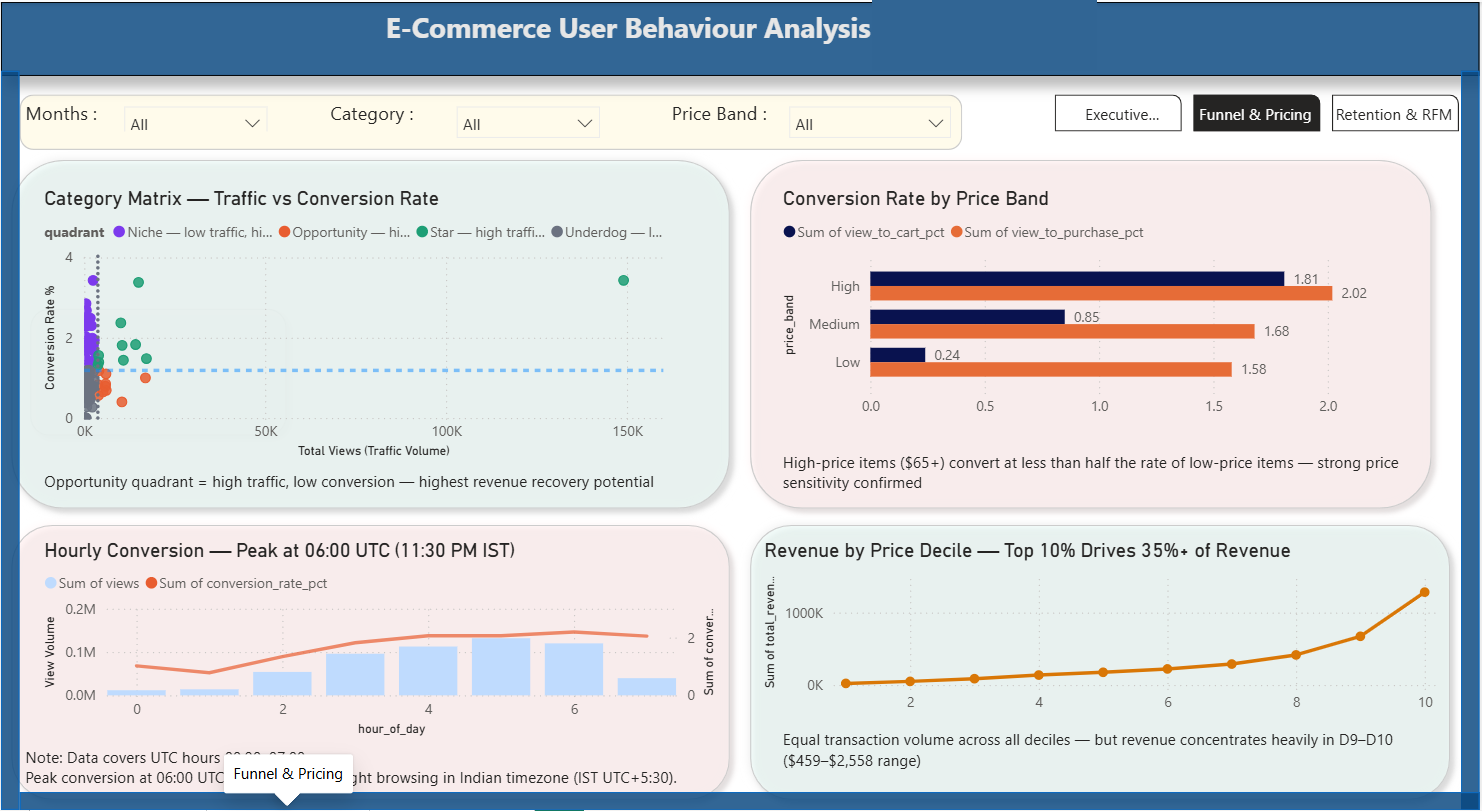

This screenshot's page, from the dashboard's own definition file:
{"tool":"powerbi","page":{"name":"Funnel & Pricing","canvas":[1280,700],"ordinal":1},"visuals":[{"type":"shape","box":[16,80,816,48],"z":0},{"type":"shape","box":[16,256,240,128],"z":1000},{"type":"shape","box":[640,128,608,320],"z":2000},{"type":"shape","box":[0,128,640,320],"z":3000},{"type":"textbox","box":[0,0,1280,64],"z":4000},{"type":"slicer","title":"Months","fields":{"Values":["events.month_label"]},"box":[96,80,144,32],"z":5000},{"type":"slicer","fields":{"Values":["events.category_code"]},"box":[384,80,144,48],"z":6000},{"type":"slicer","fields":{"Values":["events.price_band"]},"box":[672,80,160,48],"z":7000},{"type":"textbox","box":[16,80,80,32],"z":8000},{"type":"textbox","box":[280,80,112,32],"z":9000},{"type":"textbox","box":[576,80,112,32],"z":10000},{"type":"shape","box":[0,444,640,256],"z":11000},{"type":"shape","box":[640,444,624,256],"z":12000},{"type":"scatterChart","title":"Category Matrix — Traffic vs Conversion Rate","fields":{"X":["m4_category_quadrant.views"],"Y":["m4_category_quadrant.conversion_rate_pct"],"Series":["m4_category_quadrant.quadrant"]},"box":[32,160,560,240],"z":13000},{"type":"clusteredBarChart","title":"Conversion Rate by Price Band","fields":{"Category":["m3_price_bands.price_band"],"Y":["Sum(price_ bands.view_to_cart_pct)","Sum(price_ bands.view_to_purchase_pct)"]},"box":[672,160,528,208],"z":14000},{"type":"lineClusteredColumnComboChart","title":"Hourly Conversion — Peak at 06:00 UTC (11:30 PM IST)","fields":{"Category":["m2_hourly_conversion.hour_of_day"],"Y":["Sum(m2_hourly_conversion.views)"],"Y2":["Sum(m2_hourly_conversion.conversion_rate_pct)"]},"box":[32,464,592,176],"z":15000},{"type":"lineChart","title":"Revenue by Price Decile — Top 10% Drives 35%+ of Revenue","fields":{"Category":["m3_price_elasticity.price_decile"],"Y":["Sum(m3_price_elasticity.total_revenue)"]},"box":[656,464,592,160],"z":16000},{"type":"textbox","box":[32,400,560,32],"z":17000},{"type":"textbox","box":[672,384,544,48],"z":18000},{"type":"textbox","box":[672,624,560,64],"z":19000},{"type":"shape","box":[0,60,16,640],"z":20000},{"type":"shape","box":[1264,60,16,640],"z":21000},{"type":"shape","box":[16,684,1264,16],"z":22000},{"type":"pageNavigator","box":[912,80,352,32],"z":23000},{"type":"textbox","box":[16,640,608,48],"z":23001}]}

Visuals, with their boxes on the page's 1280x700 design canvas (x1, y1, x2, y2). These are canvas units, not pixel positions in the 1482x811 screenshot, which may show the page scaled, cropped or inside an application window:
shape: bbox(16, 80, 832, 128)
shape: bbox(16, 256, 256, 384)
shape: bbox(640, 128, 1248, 448)
shape: bbox(0, 128, 640, 448)
textbox: bbox(0, 0, 1280, 64)
"Months" slicer: bbox(96, 80, 240, 112)
slicer - events.category_code: bbox(384, 80, 528, 128)
slicer - events.price_band: bbox(672, 80, 832, 128)
textbox: bbox(16, 80, 96, 112)
textbox: bbox(280, 80, 392, 112)
textbox: bbox(576, 80, 688, 112)
shape: bbox(0, 444, 640, 700)
shape: bbox(640, 444, 1264, 700)
"Category Matrix — Traffic vs Conversion Rate" scatterChart: bbox(32, 160, 592, 400)
"Conversion Rate by Price Band" clusteredBarChart: bbox(672, 160, 1200, 368)
"Hourly Conversion — Peak at 06:00 UTC (11:30 PM IST)" lineClusteredColumnComboChart: bbox(32, 464, 624, 640)
"Revenue by Price Decile — Top 10% Drives 35%+ of Revenue" lineChart: bbox(656, 464, 1248, 624)
textbox: bbox(32, 400, 592, 432)
textbox: bbox(672, 384, 1216, 432)
textbox: bbox(672, 624, 1232, 688)
shape: bbox(0, 60, 16, 700)
shape: bbox(1264, 60, 1280, 700)
shape: bbox(16, 684, 1280, 700)
pageNavigator: bbox(912, 80, 1264, 112)
textbox: bbox(16, 640, 624, 688)
